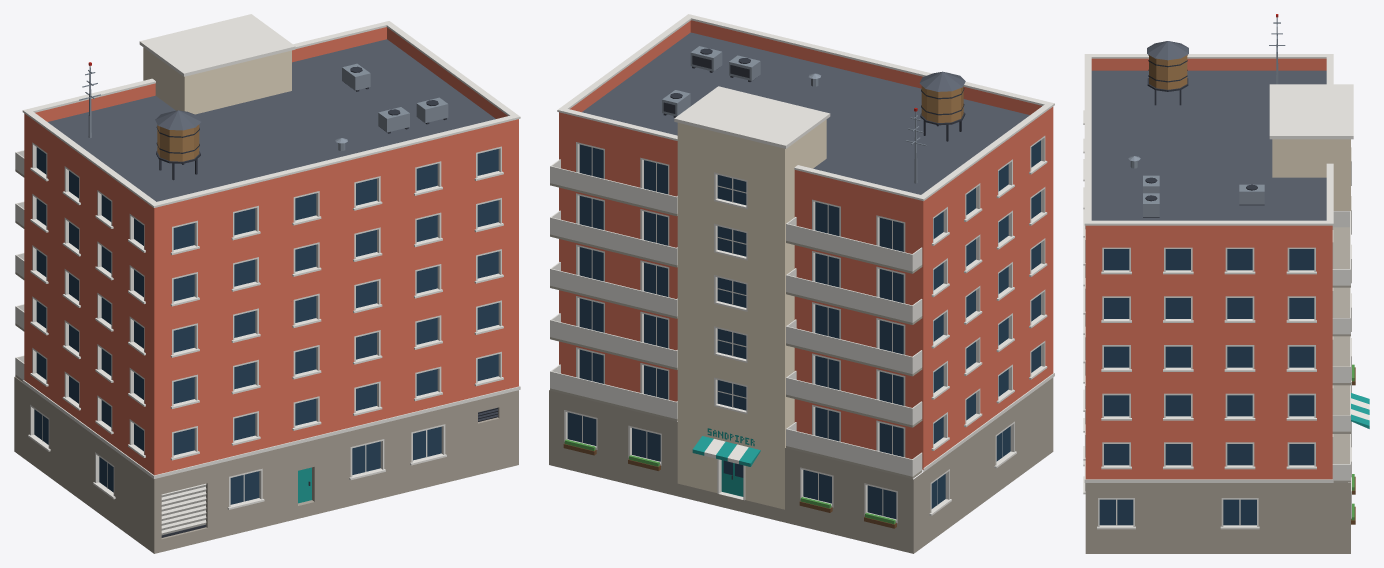
Rendered from apartment_a.glb.
The picture shows the model from 3 angles, left to right: view 1: azimuth 30°, elevation 25°; view 2: azimuth 150°, elevation 25°; view 3: azimuth 270°, elevation 25°; orthographic projection. The views are drawn at different scales.
Visible parts, largest first — view 1: Building, Building_Glass, Building_Detail; view 2: Building, Building_Glass, Building_Detail; view 3: Building, Building_Glass, Building_Detail.
Part boxes in pixels (left/top/right/bottom): Building: left=14, top=14, right=520, bottom=553; Building_Glass: left=34, top=147, right=498, bottom=504; Building_Detail: left=79, top=62, right=448, bottom=485; Building: left=549, top=14, right=1054, bottom=553; Building_Glass: left=567, top=140, right=1040, bottom=518; Building_Detail: left=563, top=46, right=965, bottom=528; Building: left=1083, top=54, right=1353, bottom=553; Building_Glass: left=1099, top=249, right=1314, bottom=525; Building_Detail: left=1128, top=14, right=1369, bottom=524.
Bounding box in the file's own units: 24.08 × 25.46 × 17.04.
